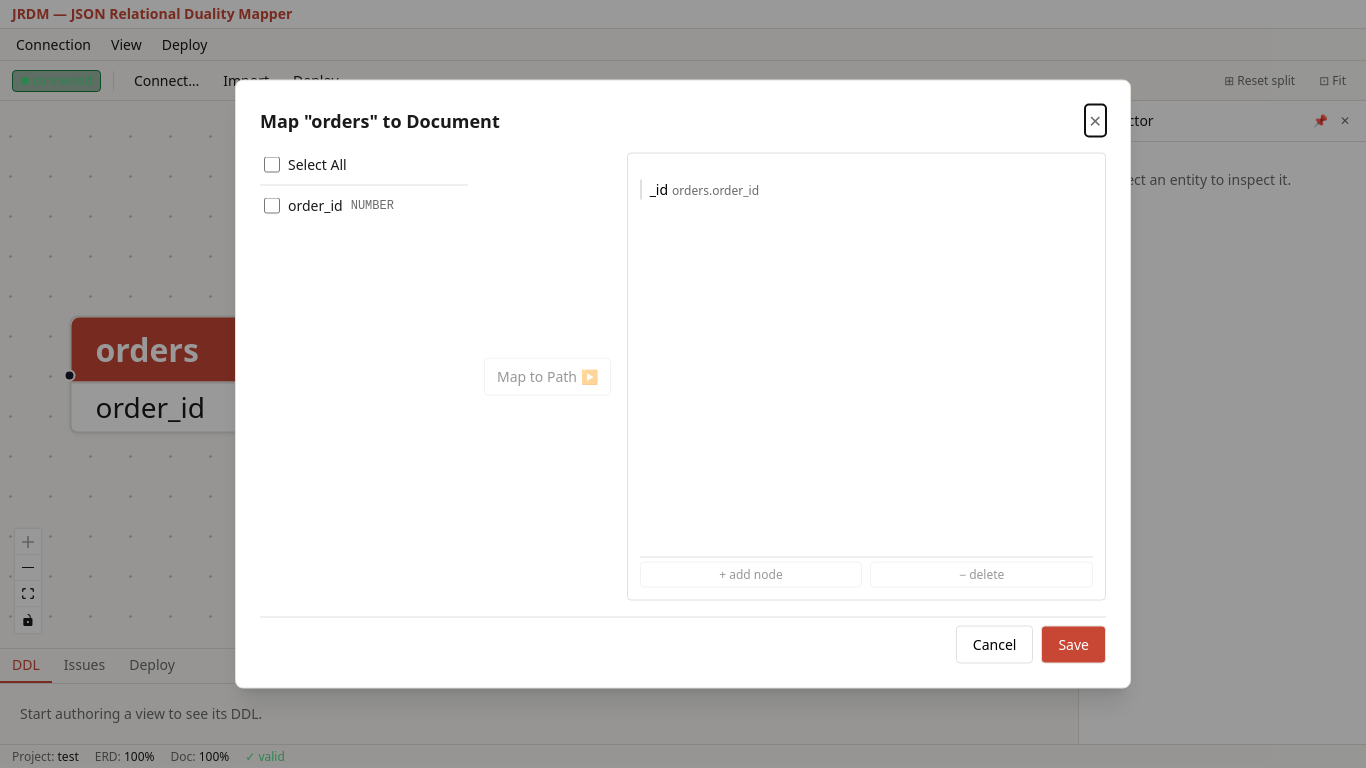
Test: AppShell › MapToDocumentModal opens when mapping.open is set to true with a resolvable table
Expected: the dialog is shown, top-left (235, 80), bottom-right (1131, 688)
Expected: the dialog shows "orders", top-left (260, 108), bottom-right (500, 132)
Cancel closes it
Click the button with test id "map-cancel" at point(995, 644), box top-left (956, 626), bottom-right (1033, 664)
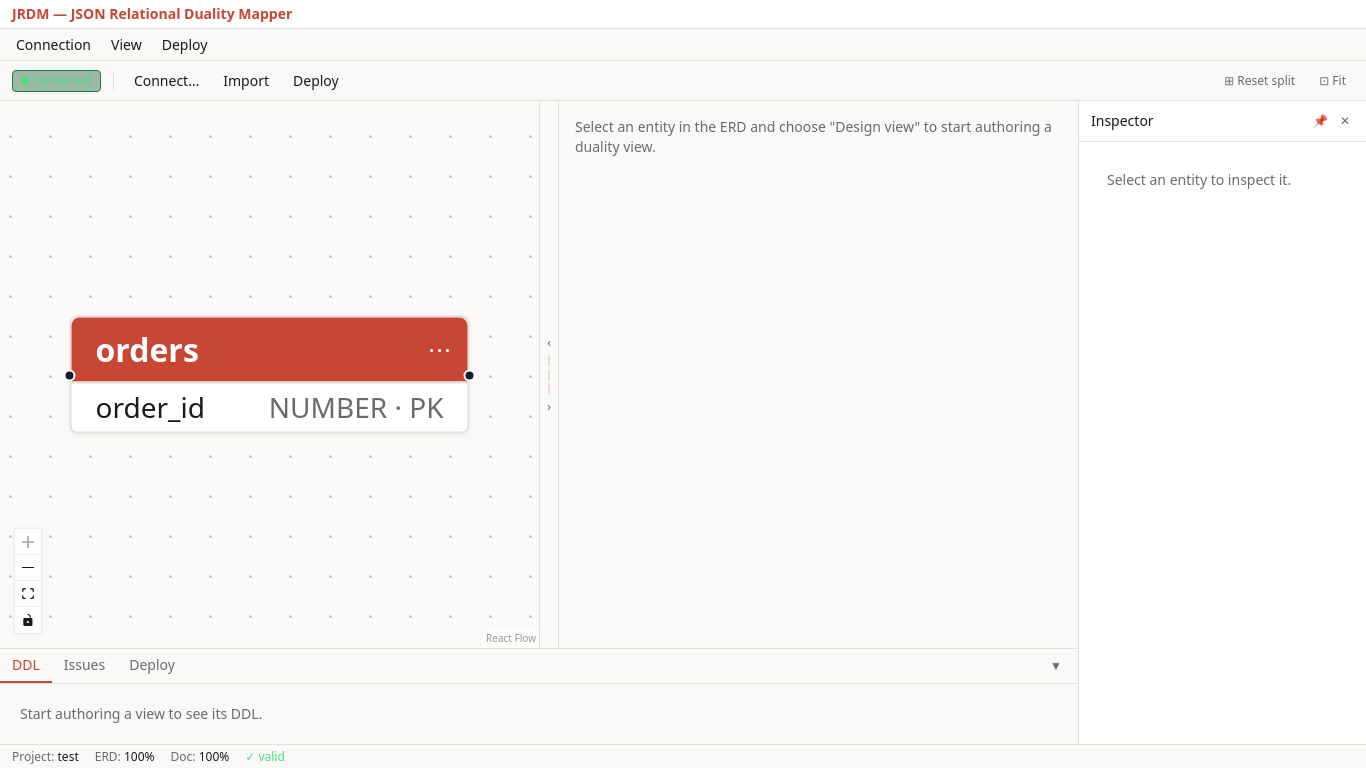
Now the dialog is gone
